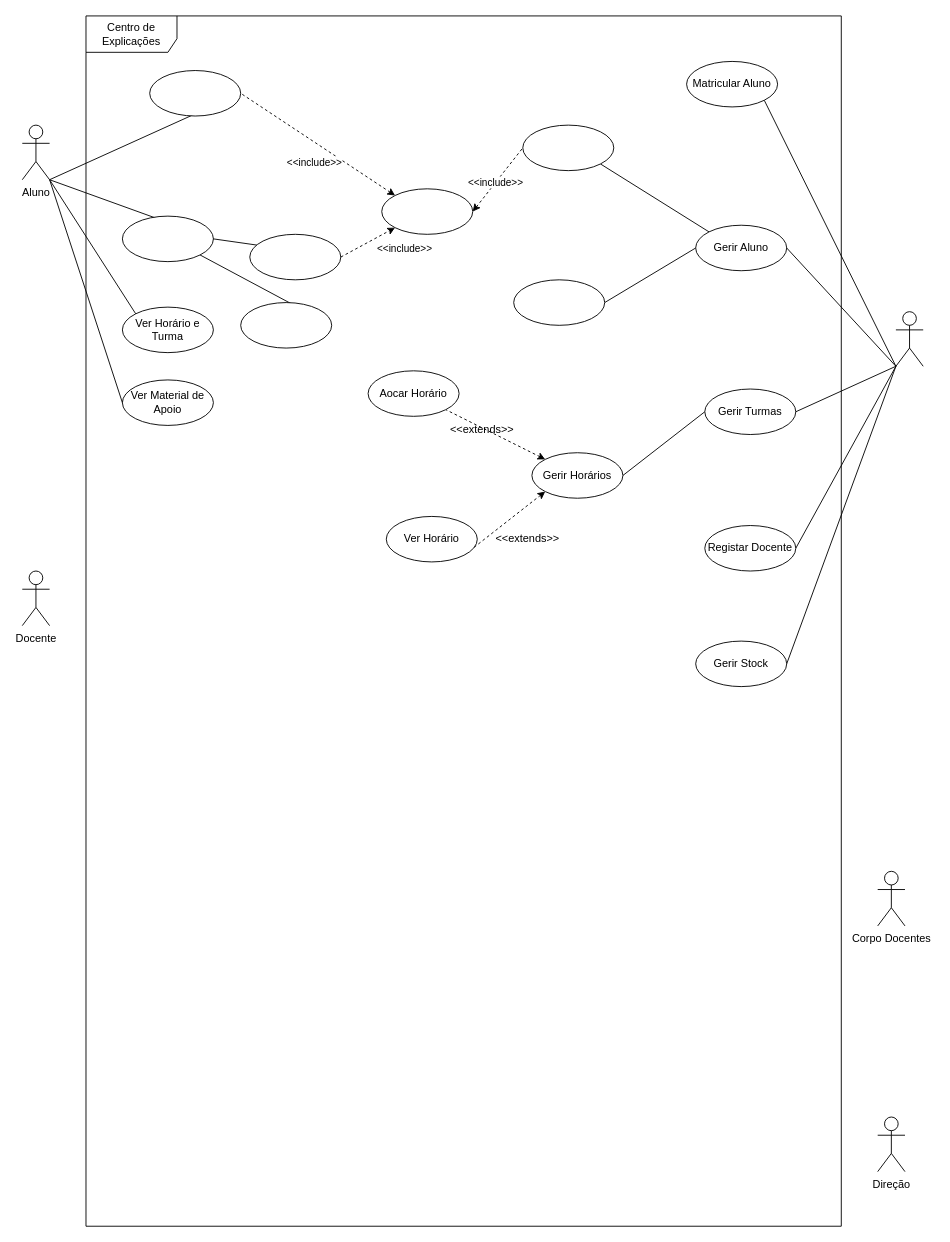
The diagram is 950 pixels wide and 1242 high, and some of its shapes have lost their labels. The shapes that lost their labels are listed below. From the top down, each one's box as (x1, y1, x2, y2) in pixels, then its label:
(149, 70, 241, 116): Fazer Inscrição
(522, 124, 614, 171): Registar Pagamento
(381, 188, 473, 234): Emitir Fatura/Recibo
(121, 215, 213, 262): Gerir Pagamentos
(249, 233, 341, 280): Efetuar Pagamento
(513, 279, 605, 325): Pagar Mensalidade
(240, 302, 332, 348): Ver Histórico de Pagamentos
(895, 311, 923, 366): Secretaria
